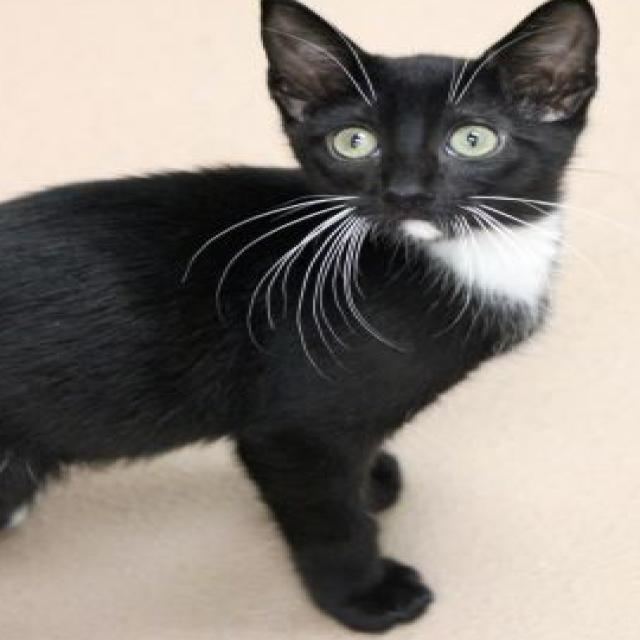Tuxedo: (0, 0, 607, 637)
